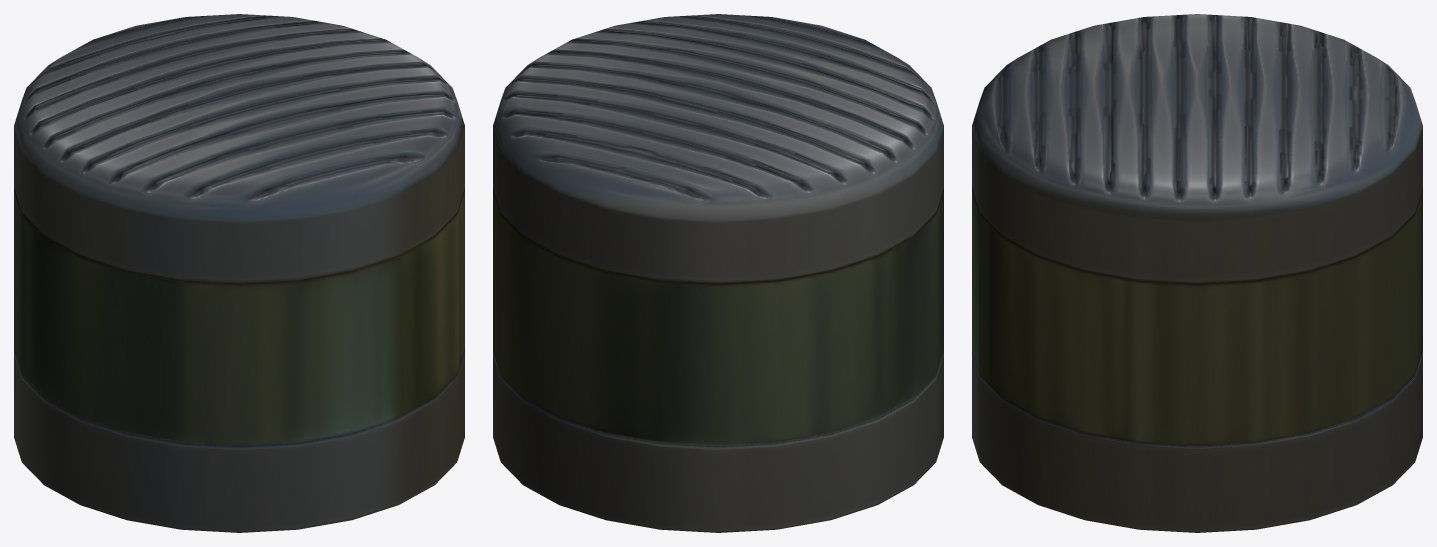
Rendered from lidar_3d_v2.dae.
3 renders of one model, left to right at view 1: azimuth 30°, elevation 25°; view 2: azimuth 150°, elevation 25°; view 3: azimuth 270°, elevation 25°, orthographic.
Parts seen in each view (by area): view 1: Lidar_02; view 2: Lidar_02; view 3: Lidar_02.
Part boxes in pixels (<box>): Lidar_02: <box>14,14,464,532</box>; Lidar_02: <box>493,14,943,532</box>; Lidar_02: <box>972,14,1422,532</box>.
Bounding box in the file's own units: 16.39 × 16.39 × 14.24.
